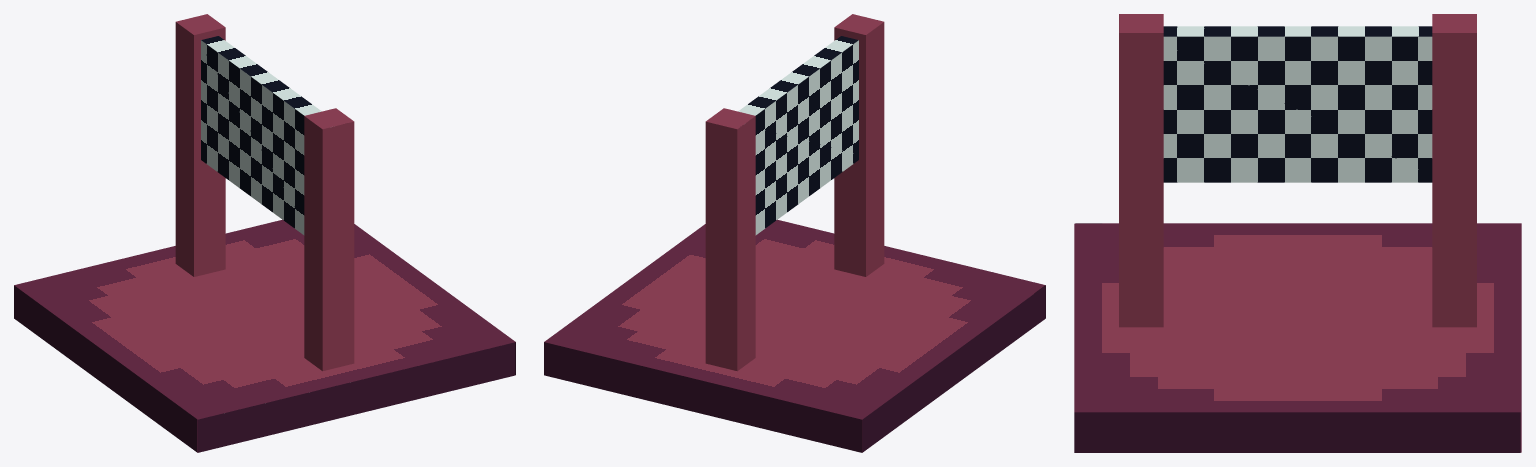
Rendered from Finish.fbx.
The picture shows the model from 3 angles, left to right: view 1: azimuth 30°, elevation 25°; view 2: azimuth 150°, elevation 25°; view 3: azimuth 270°, elevation 25°; orthographic projection. The views are drawn at different scales.
Visible parts, largest first — view 1: Cube.003; view 2: Cube.003; view 3: Cube.003.
Boxes of the visible parts, box(x1,y1,x2,y2) form: Cube.003: box(14, 14, 515, 452); Cube.003: box(544, 14, 1045, 452); Cube.003: box(1074, 14, 1521, 452).
Size of the model in its own units: 200 by 165 by 200.
